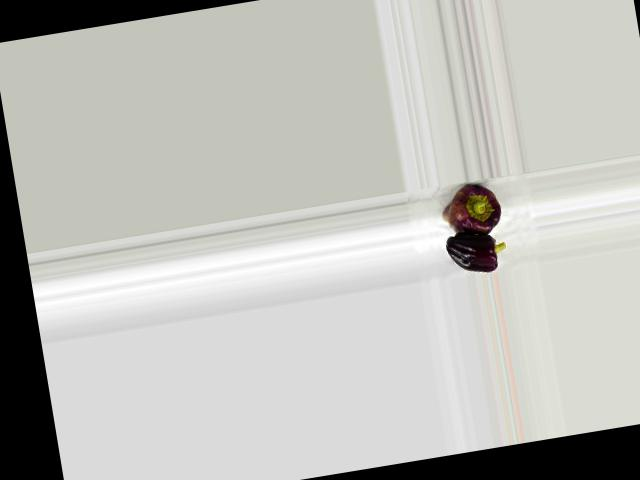bell_pepper: (427, 176, 516, 243)
